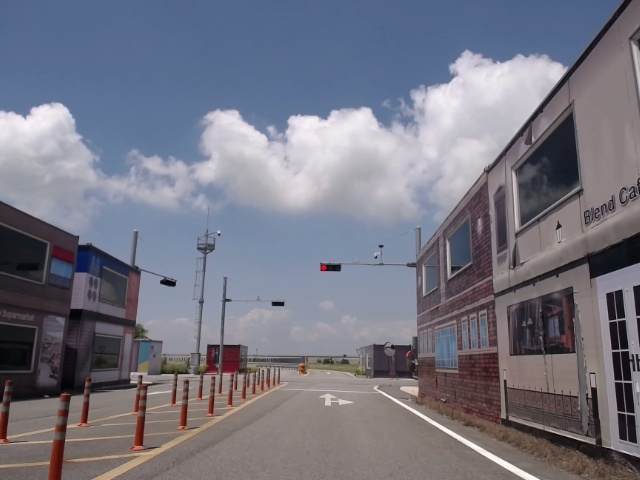red_3: (319, 262, 343, 272)
